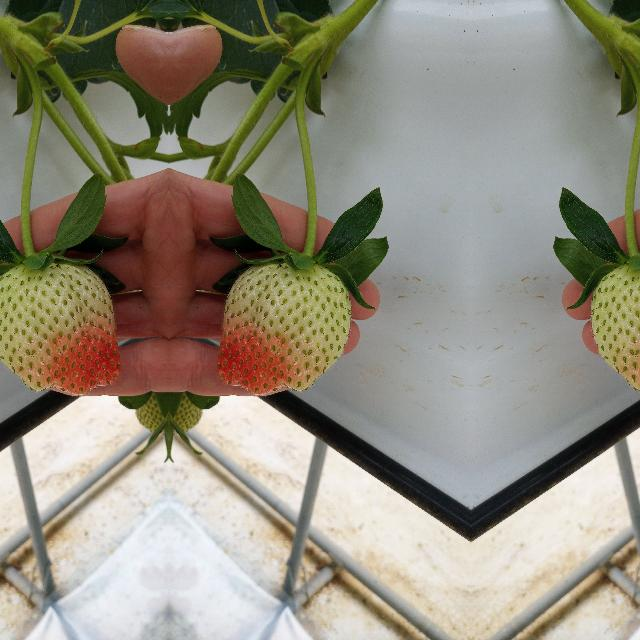Health_50: (215, 259, 351, 396), (0, 259, 121, 396), (590, 259, 640, 396)
